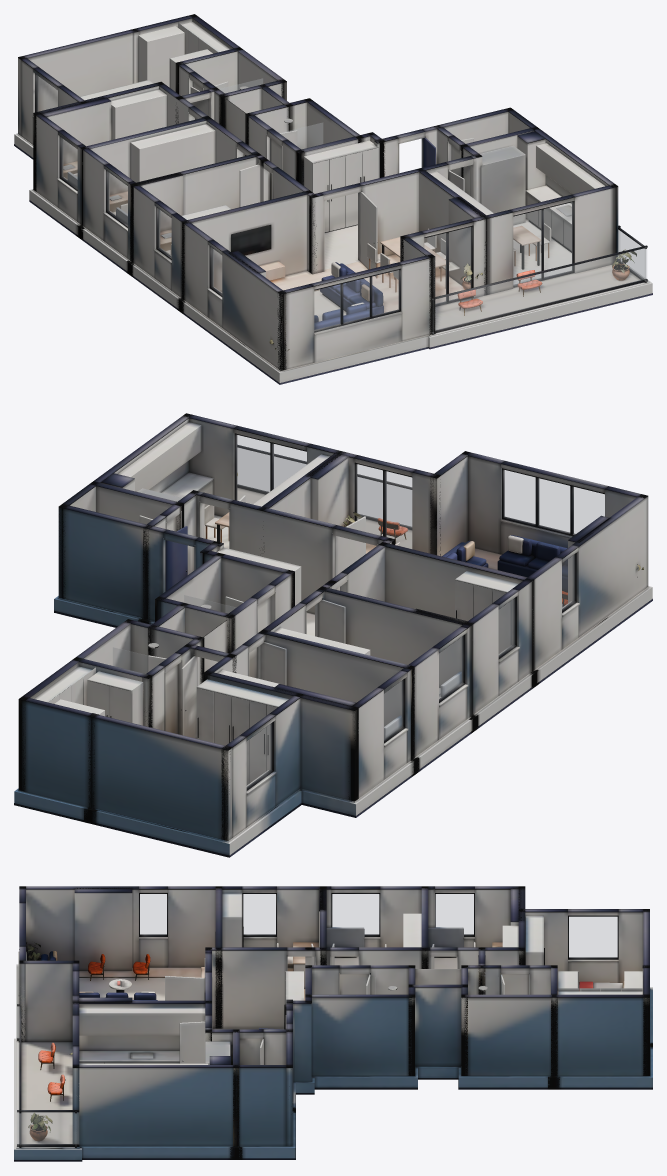
The picture shows the model from 3 angles, top to bottom: view 1: azimuth 30°, elevation 25°; view 2: azimuth 150°, elevation 25°; view 3: azimuth 270°, elevation 25°; orthographic projection. The views are drawn at different scales.
Visible parts, largest first — view 1: plan, railg3_m, glass7_m, glass5_m, glass6_m, glass2_m, glass1_m, railg5_m, sg.001_m, glass0_m, glass3_m; view 2: plan, glass5_m, railg3_m, glass6_m, glass7_m, glass0_m, glass2_m, glass1_m, glass3_m, sg_m; view 3: plan, railg5_m, glass0_m, glass2_m, glass3_m, glass1_m, glass4_m.
Part boxes in pixels (x1,y1,x2,y2): plan: (14,14,652,384); railg3_m: (435,249,646,330); glass7_m: (513,202,572,284); glass5_m: (314,270,399,330); glass6_m: (424,227,471,303); glass2_m: (107,171,127,225); glass1_m: (61,138,77,188); railg5_m: (618,230,645,280); sg.001_m: (282,123,322,148); glass0_m: (37,75,57,111); glass3_m: (158,209,171,256); plan: (14,413,652,857); glass5_m: (504,470,604,534); railg3_m: (238,448,411,526); glass6_m: (356,464,411,548); glass7_m: (236,435,306,503); glass0_m: (247,723,271,787); glass2_m: (439,636,462,699); glass1_m: (384,680,402,740); glass3_m: (499,598,514,655); sg_m: (113,647,147,673); plan: (14,886,652,1161); railg5_m: (17,1112,78,1144); glass0_m: (569,917,617,957); glass2_m: (332,894,378,934); glass3_m: (243,894,275,934); glass1_m: (436,894,473,934); glass4_m: (140,894,166,934).
Size of the model in its own units: 11.47 by 2.62 by 16.69.
Materials: 2 (1 with a texture image).
